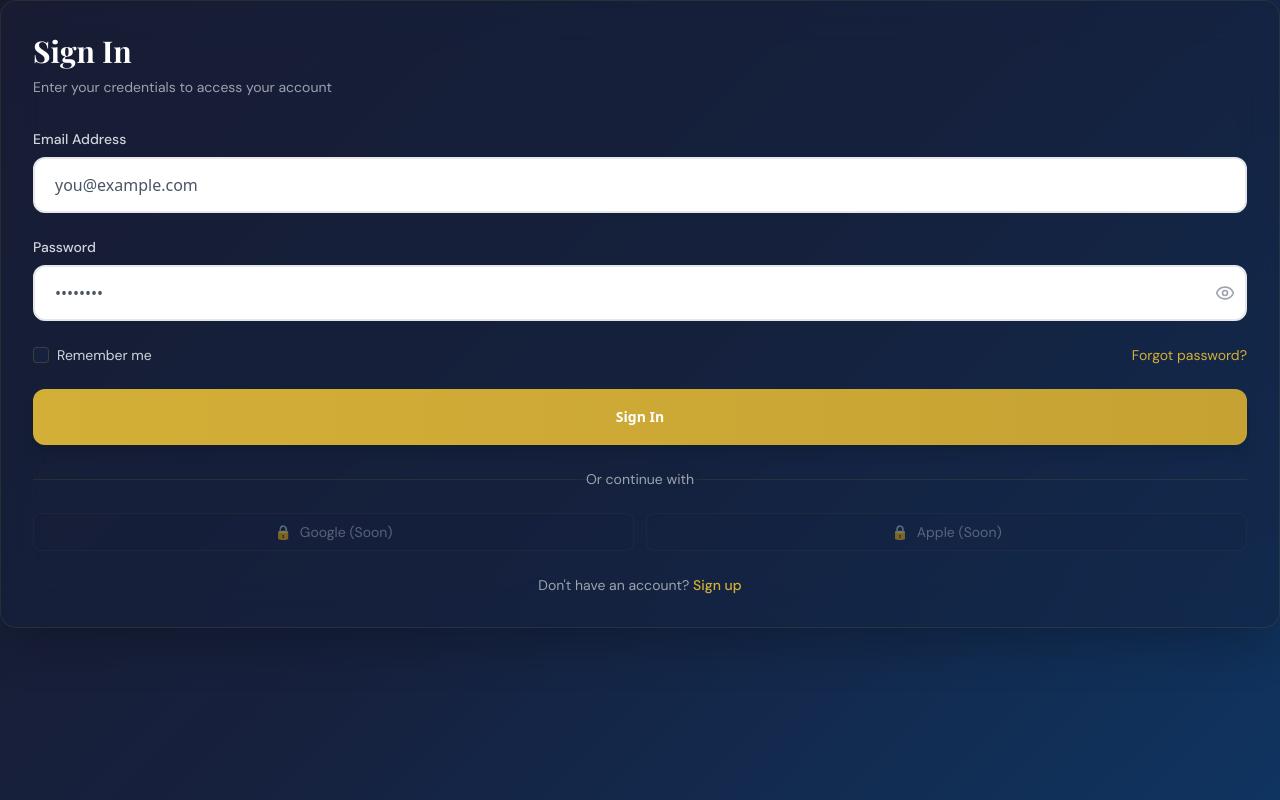
Test: LoginForm - Validation Errors › shows password validation error on blur with weak password
Type "weak" into the password field labelled "Password" at (640, 293), box [33,265,1247,321]
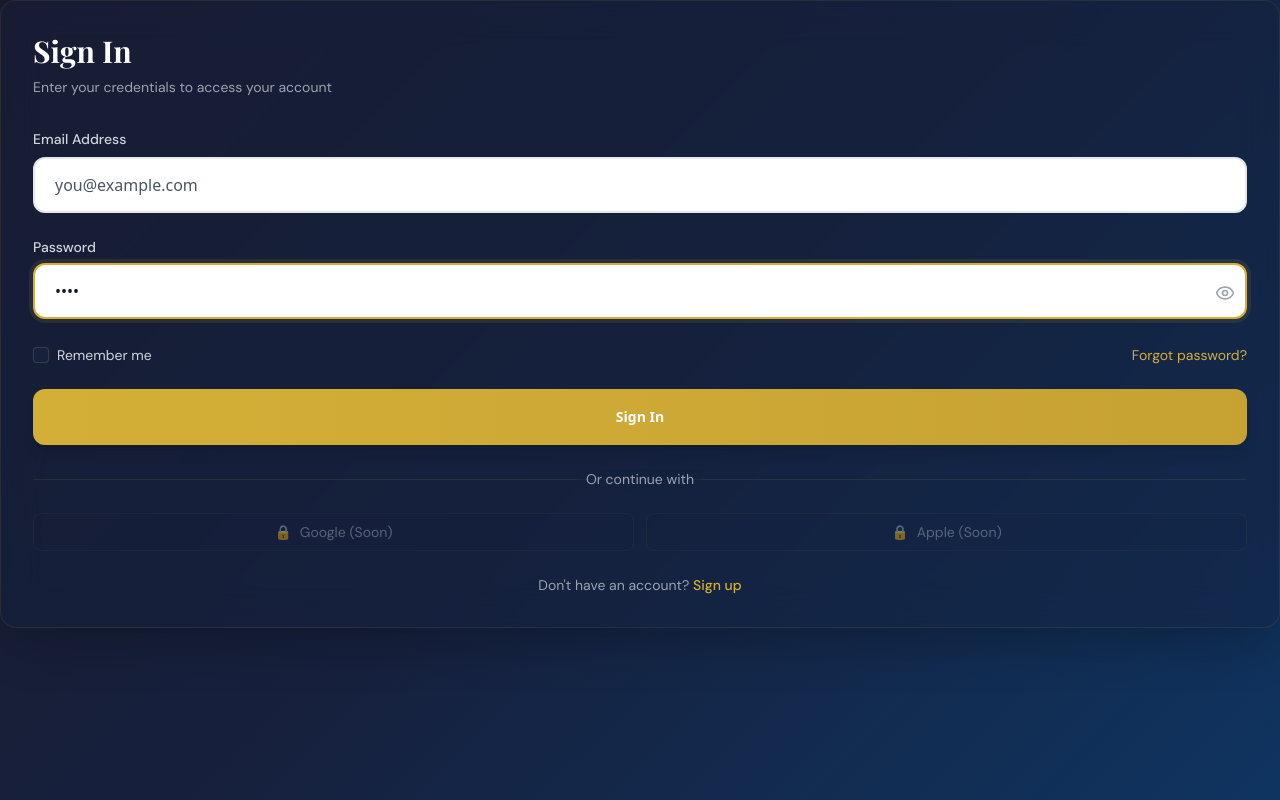
Press Tab
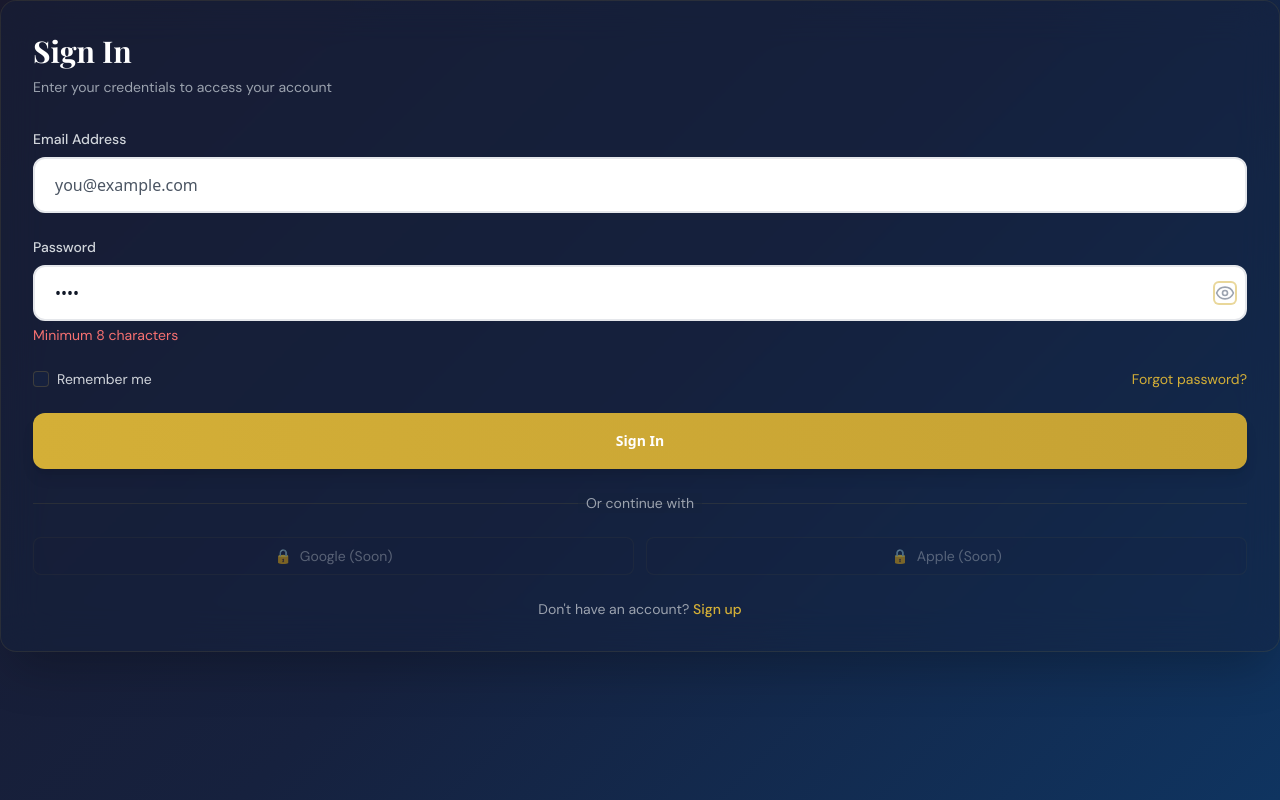
Result: the text "Minimum 8 characters" is shown at [33,326,178,344]
